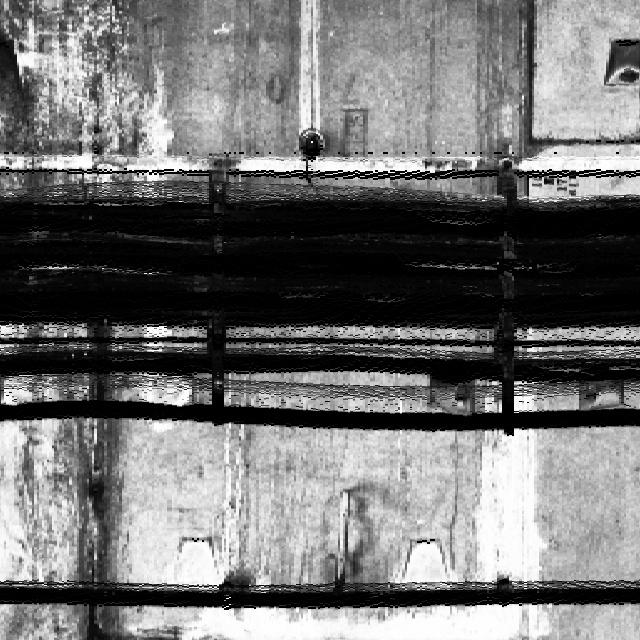leakage: (49, 315, 135, 639)
